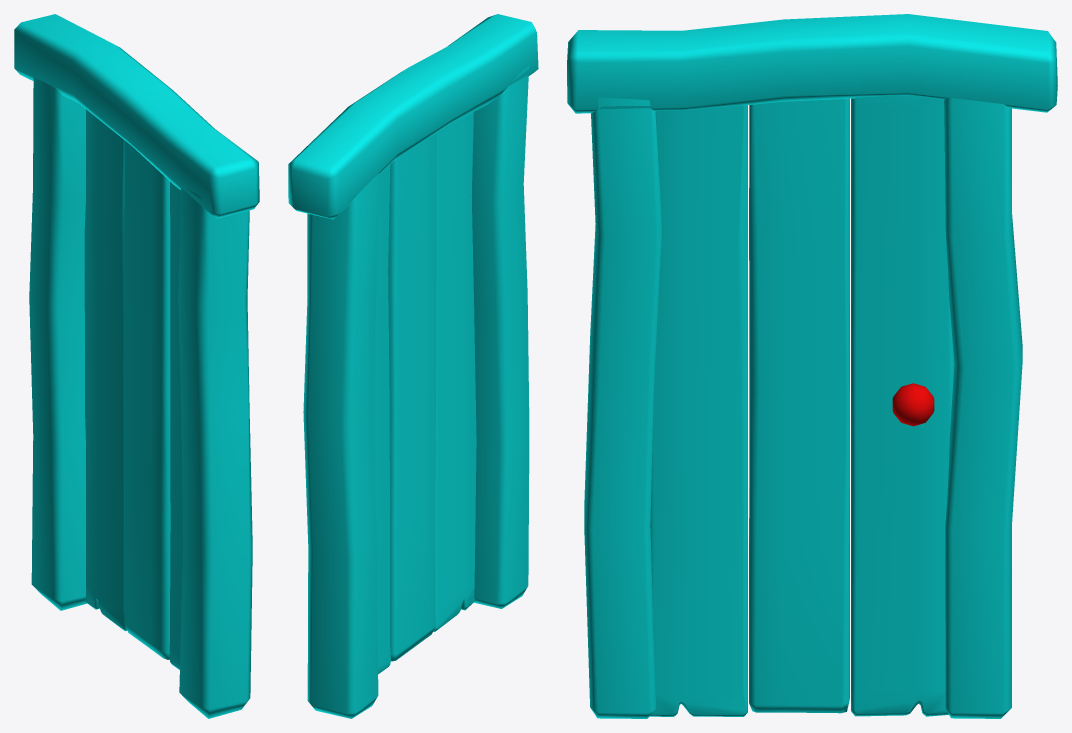
Rendered from Door.fbx.
3 views of the same model, side by side, from view 1: azimuth 30°, elevation 25°; view 2: azimuth 150°, elevation 25°; view 3: azimuth 270°, elevation 25° (orthographic). The views are drawn at different scales.
Parts seen in each view (by area): view 1: Post_L25, Post_L24, Plank3_L8, Post_L26, Plank2_L8, Plank2_L7; view 2: Post_L24, Post_L25, Plank3_L8, Post_L26, Plank2_L7, Plank2_L8; view 3: Plank3_L8, Plank2_L8, Plank2_L7, Post_L24, Post_L25, Post_L26, Mast.
Part boxes in pixels (x1,y1,x2,y2): Post_L25: [178, 188, 252, 718]; Post_L24: [29, 77, 87, 610]; Plank3_L8: [124, 140, 170, 659]; Post_L26: [14, 14, 259, 218]; Plank2_L8: [84, 109, 127, 631]; Plank2_L7: [169, 182, 183, 669]; Post_L24: [303, 174, 379, 718]; Post_L25: [471, 65, 529, 608]; Plank3_L8: [388, 133, 436, 661]; Post_L26: [288, 14, 538, 219]; Plank2_L7: [433, 112, 476, 631]; Plank2_L8: [373, 164, 390, 674]; Plank3_L8: [749, 98, 849, 713]; Plank2_L8: [851, 95, 954, 716]; Plank2_L7: [650, 105, 747, 716]; Post_L24: [944, 98, 1022, 718]; Post_L25: [584, 97, 661, 718]; Post_L26: [567, 14, 1057, 113]; Mast: [892, 383, 934, 426].
Size of the model in its own units: 0.1171 by 0.9075 by 0.5877.
